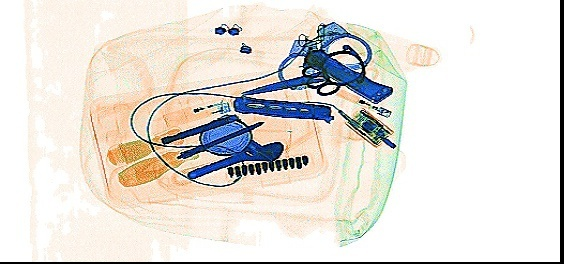handcuffs: (276, 19, 372, 91)
knife: (301, 45, 393, 104), (231, 93, 335, 124)
lighter: (161, 97, 230, 130), (334, 88, 391, 120)
scissors: (239, 49, 379, 96)
